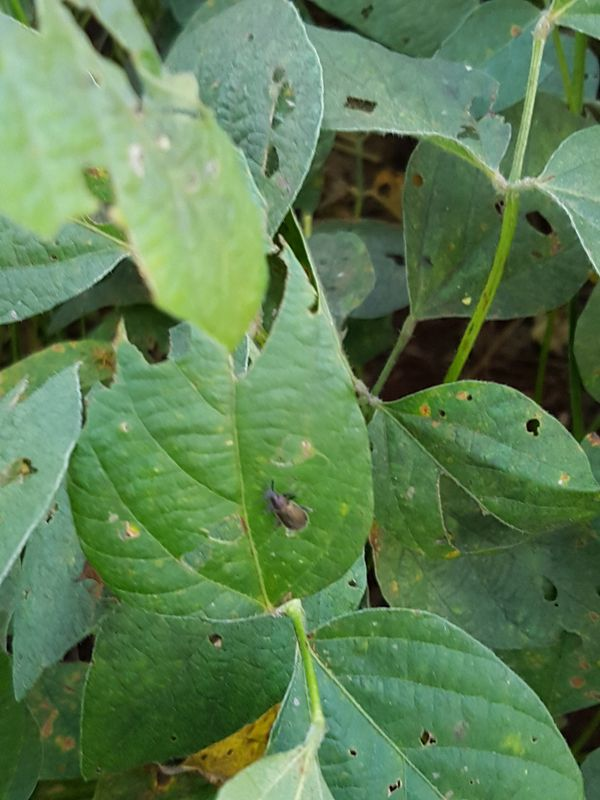Lagria_villosa: (240, 476, 323, 544)
